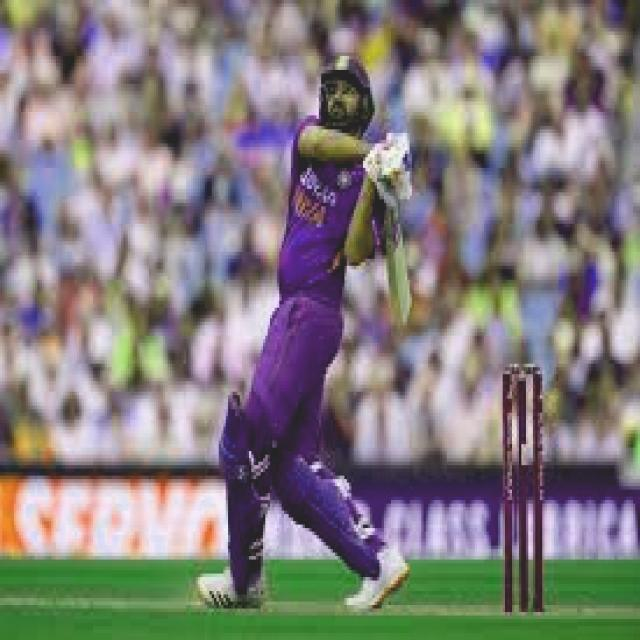toe: (390, 282, 412, 326)
